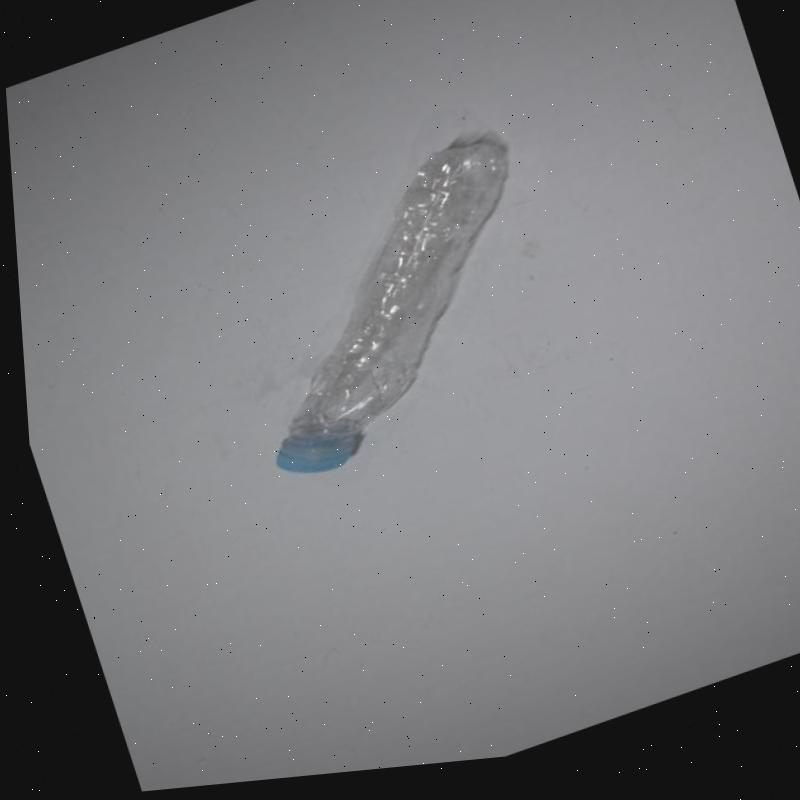botella: (194, 137, 579, 498)
